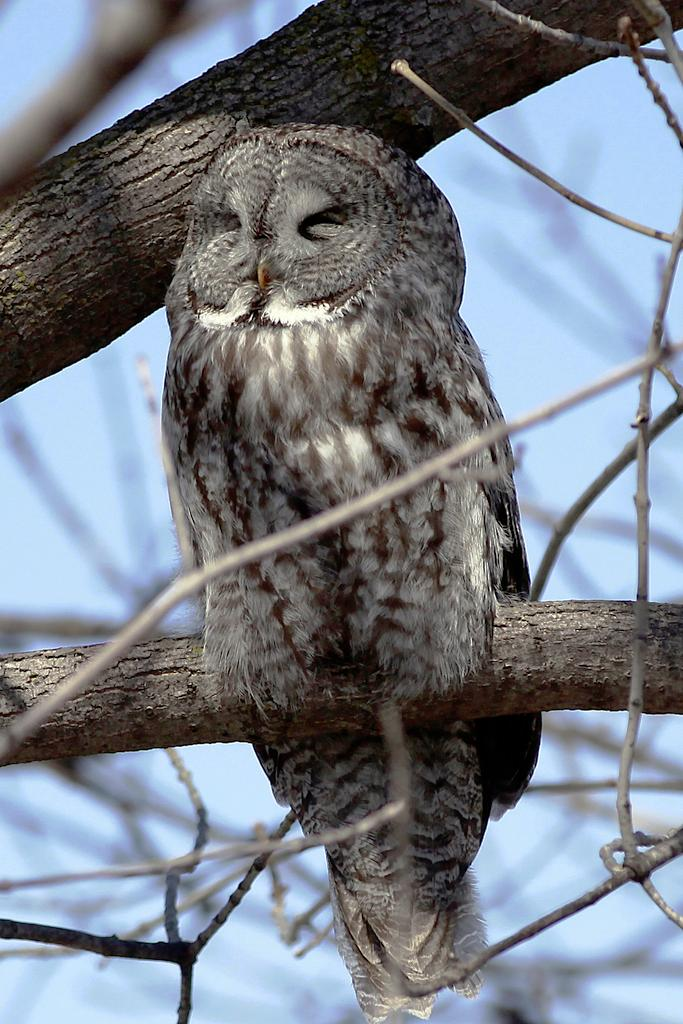Owl: (156, 118, 542, 1024)
